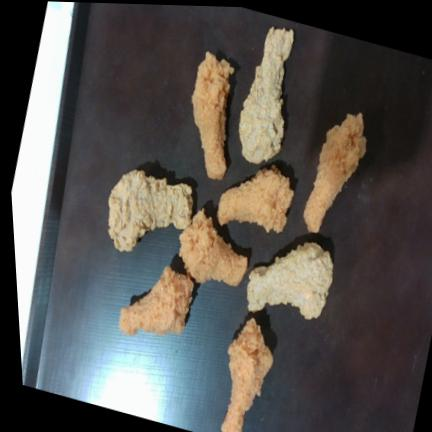chicken: (238, 27, 293, 163), (303, 113, 365, 232), (108, 169, 192, 251), (246, 242, 332, 319), (221, 318, 272, 432), (191, 51, 233, 178), (179, 209, 247, 286), (118, 266, 193, 335), (217, 165, 293, 232)
